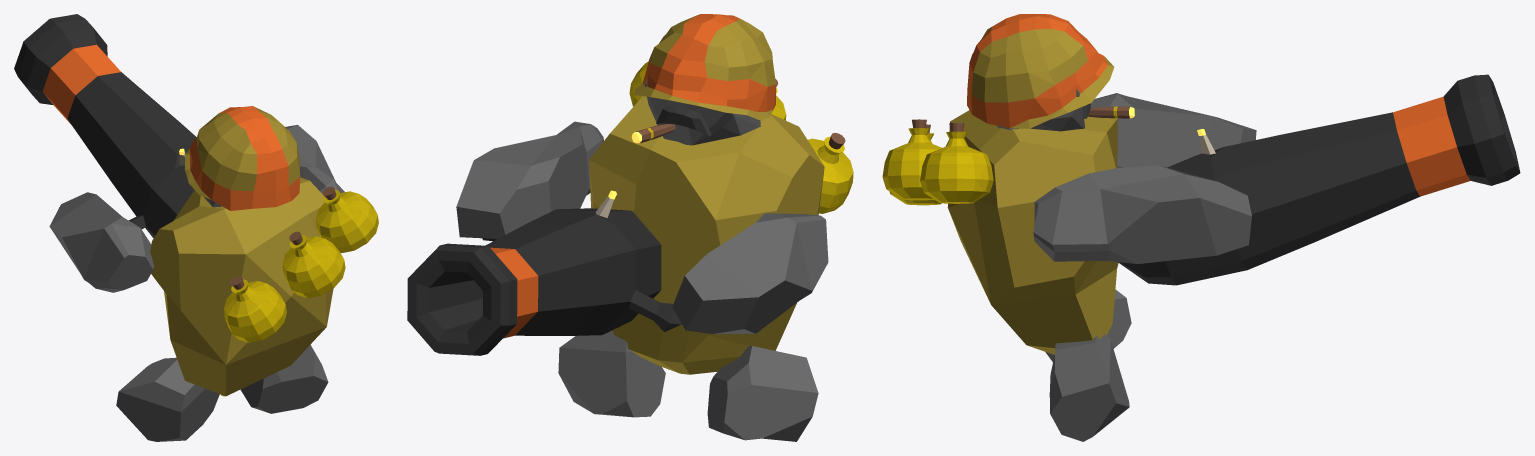
File: golemNapalm.fbx
The picture shows the model from 3 angles, left to right: view 1: azimuth 30°, elevation 25°; view 2: azimuth 150°, elevation 25°; view 3: azimuth 270°, elevation 25°; orthographic projection. The views are drawn at different scales.
Parts seen in each view (by area): view 1: Cube.003; view 2: Cube.003; view 3: Cube.003.
Boxes of the visible parts, x1,y1,x2,y2 form: Cube.003: (14, 14, 378, 441); Cube.003: (407, 14, 853, 441); Cube.003: (882, 14, 1520, 441).
Bounding box in the file's own units: 478 × 597 × 912.
